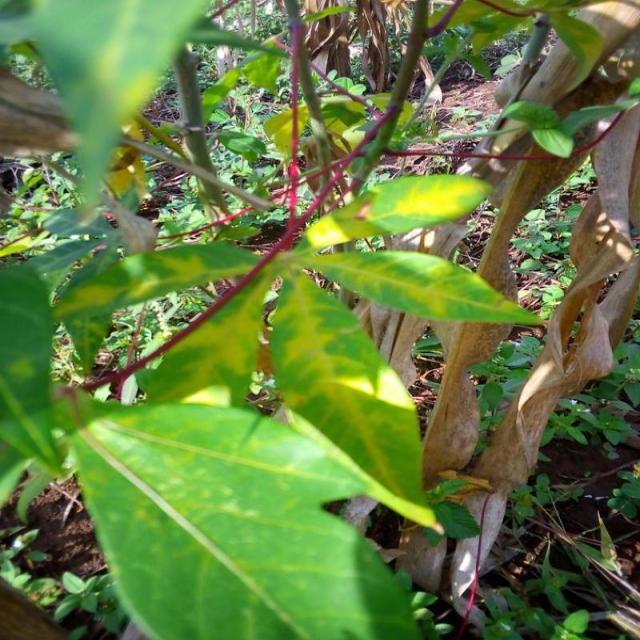cassava leaf: (67, 395, 423, 638), (269, 268, 443, 535), (292, 248, 545, 328)
